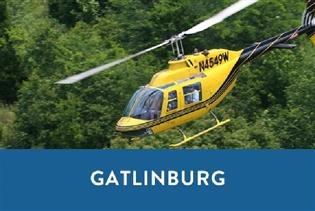Helicopter: (55, 1, 312, 134)
